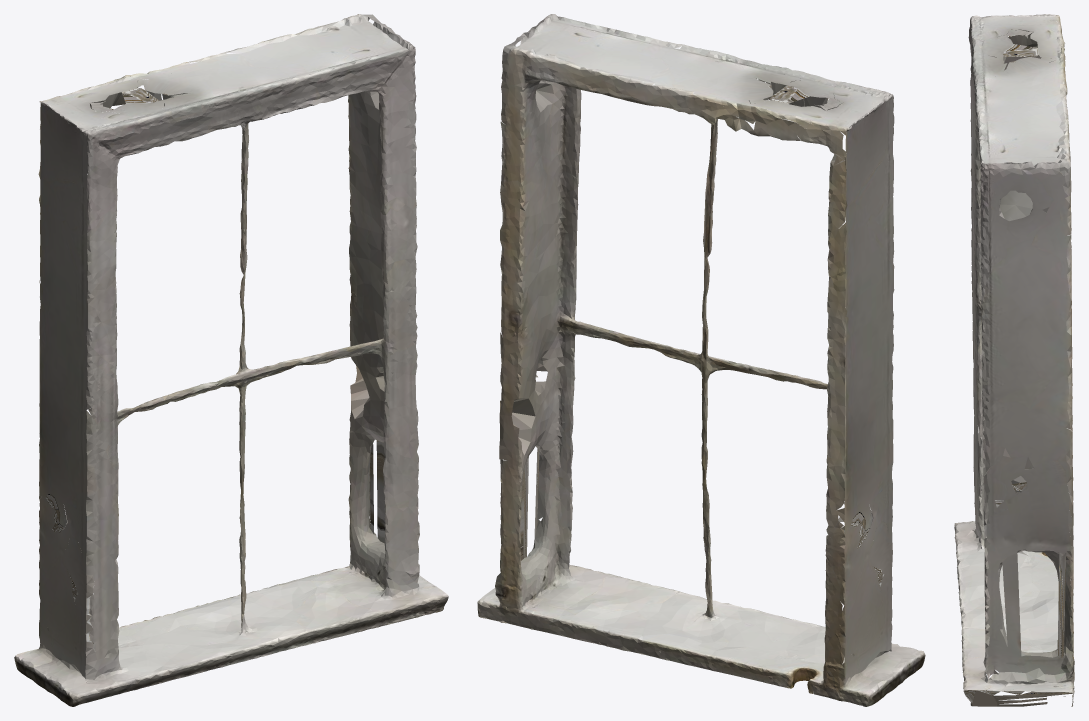
File: Window okay-2048.glb
3 views of the same model, side by side, from view 1: azimuth 30°, elevation 25°; view 2: azimuth 150°, elevation 25°; view 3: azimuth 270°, elevation 25° (orthographic). The views are drawn at different scales.
Parts seen in each view (by area): view 1: Mesh_0; view 2: Mesh_0; view 3: Mesh_0.
Boxes of the visible parts, x1,y1,x2,y2 form: Mesh_0: [14, 14, 448, 706]; Mesh_0: [477, 14, 925, 706]; Mesh_0: [954, 14, 1074, 706].
Bounding box in the file's own units: 0.704 × 1 × 0.2054.
Materials: 1 (1 with a texture image).
